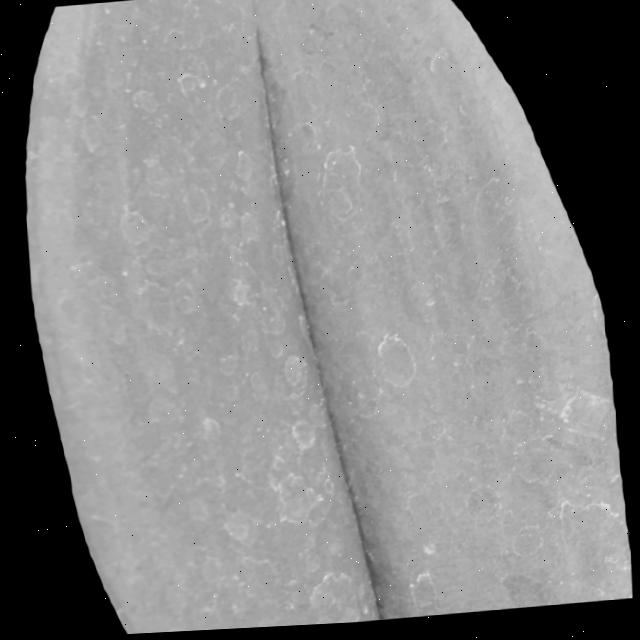mite: (368, 333, 418, 398), (277, 353, 310, 404), (175, 69, 210, 101)
spots: (12, 0, 632, 639)
